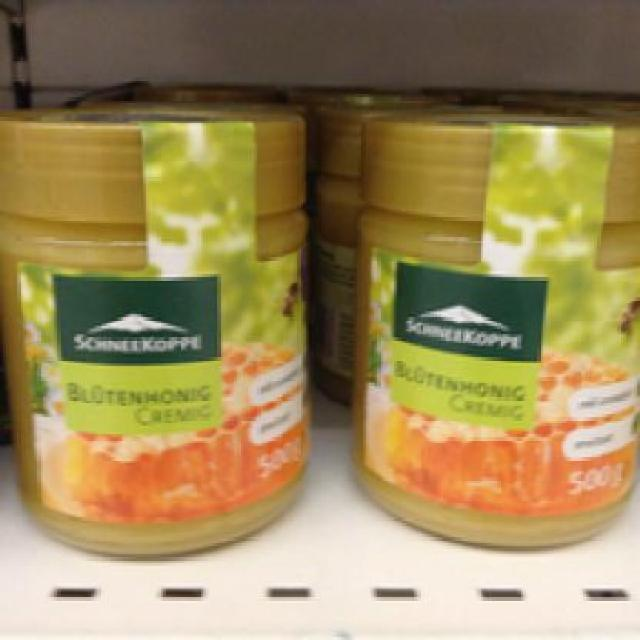Honey: (0, 105, 323, 558), (340, 109, 637, 548)
